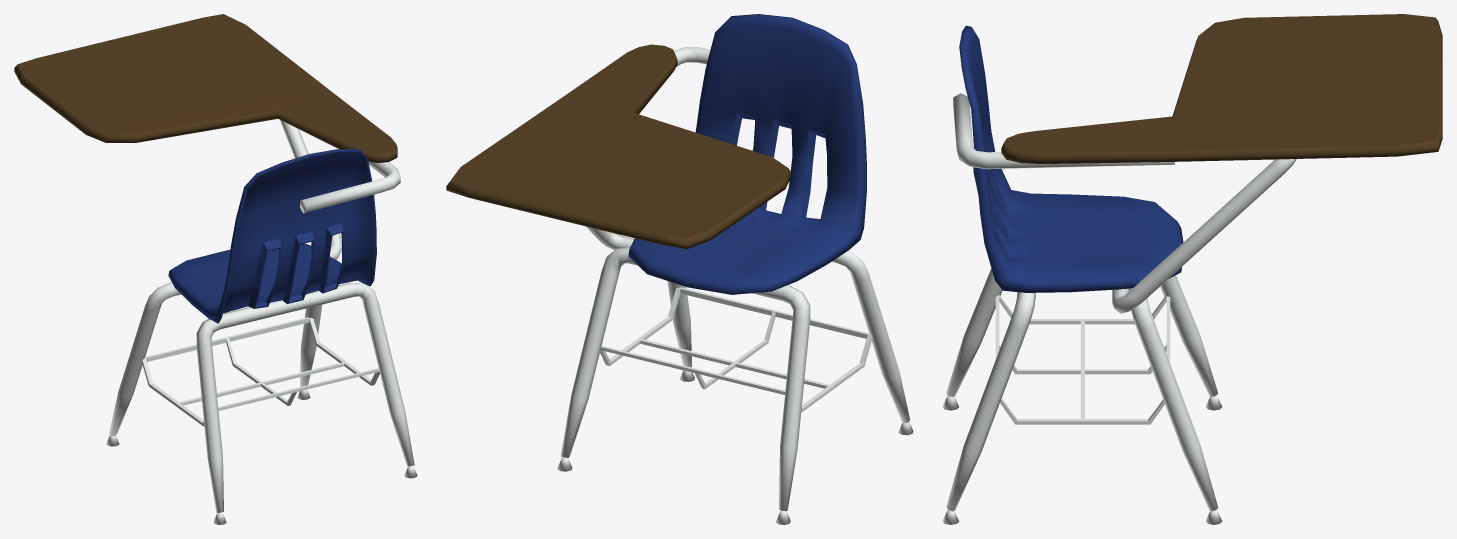
The model's file is Desk Student.fbx.
3 views of the same model, side by side, from view 1: azimuth 30°, elevation 25°; view 2: azimuth 150°, elevation 25°; view 3: azimuth 270°, elevation 25° (orthographic). The views are drawn at different scales.
Parts seen in each view (by area): view 1: Desktop, DeskChair, DeskLegs, Deskbasket, DeskSupport2, DeskSupport, DeskFeet; view 2: Desktop, DeskChair, DeskLegs, Deskbasket, DeskFeet, DeskSupport, DeskSupport2; view 3: Desktop, DeskChair, DeskLegs, DeskSupport, Deskbasket, DeskSupport2, DeskFeet.
Boxes of the visible parts, box(x1,y1,x2,y2) form: Desktop: box(14, 14, 397, 162); DeskChair: box(168, 148, 376, 323); DeskLegs: box(109, 282, 414, 512); Deskbasket: box(142, 317, 379, 426); DeskSupport2: box(300, 161, 400, 213); DeskSupport: box(280, 120, 341, 259); DeskFeet: box(106, 389, 417, 524); Desktop: box(446, 44, 791, 248); DeskChair: box(628, 14, 866, 294); DeskLegs: box(561, 248, 910, 511); Deskbasket: box(600, 287, 872, 412); DeskFeet: box(557, 370, 913, 524); DeskSupport: box(586, 226, 634, 250); DeskSupport2: box(674, 47, 710, 66); Desktop: box(1001, 14, 1442, 163); DeskChair: box(959, 25, 1183, 292); DeskLegs: box(946, 268, 1218, 511); DeskSupport: box(1112, 159, 1296, 313); Deskbasket: box(995, 295, 1170, 424); DeskSupport2: box(953, 93, 1174, 169); DeskFeet: box(942, 395, 1222, 524).
Bounding box in the file's own units: 1.46 × 2.13 × 2.3.
